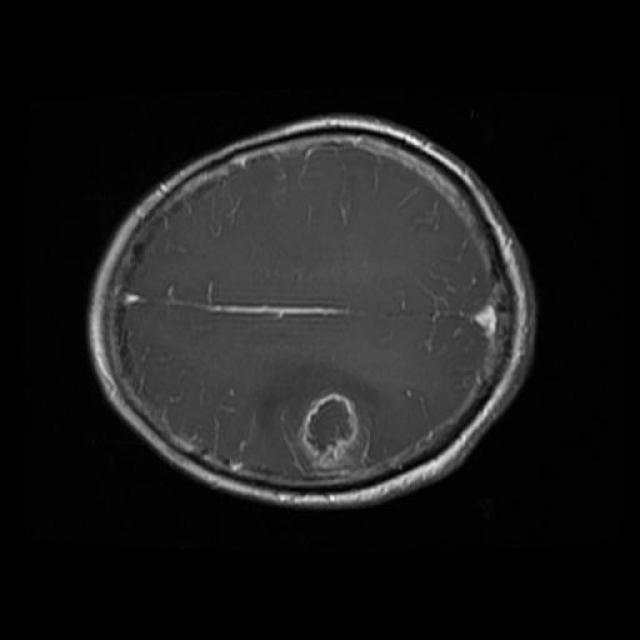Glioma: (298, 393, 360, 469)
